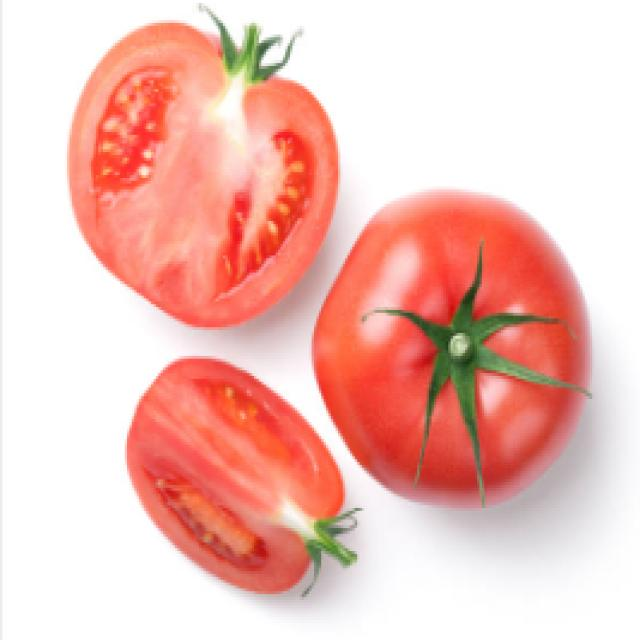Tomato: (279, 165, 596, 517), (68, 6, 328, 330), (106, 316, 360, 612)
